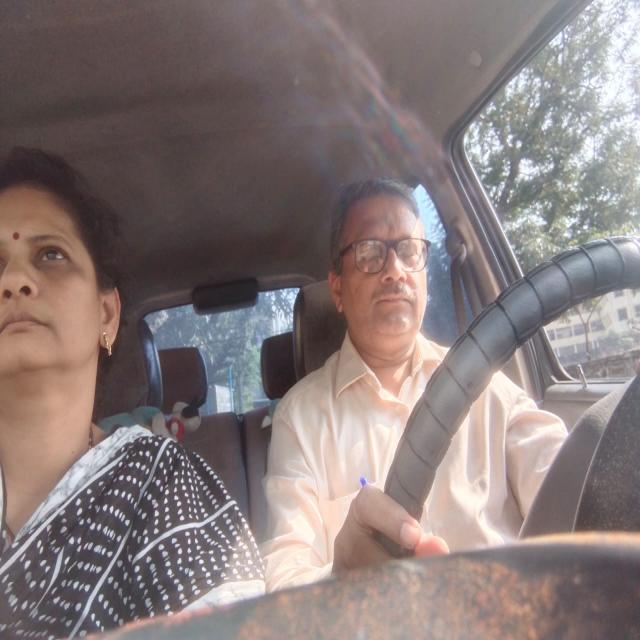drowsy: (322, 167, 436, 356)
person: (0, 131, 124, 405)
